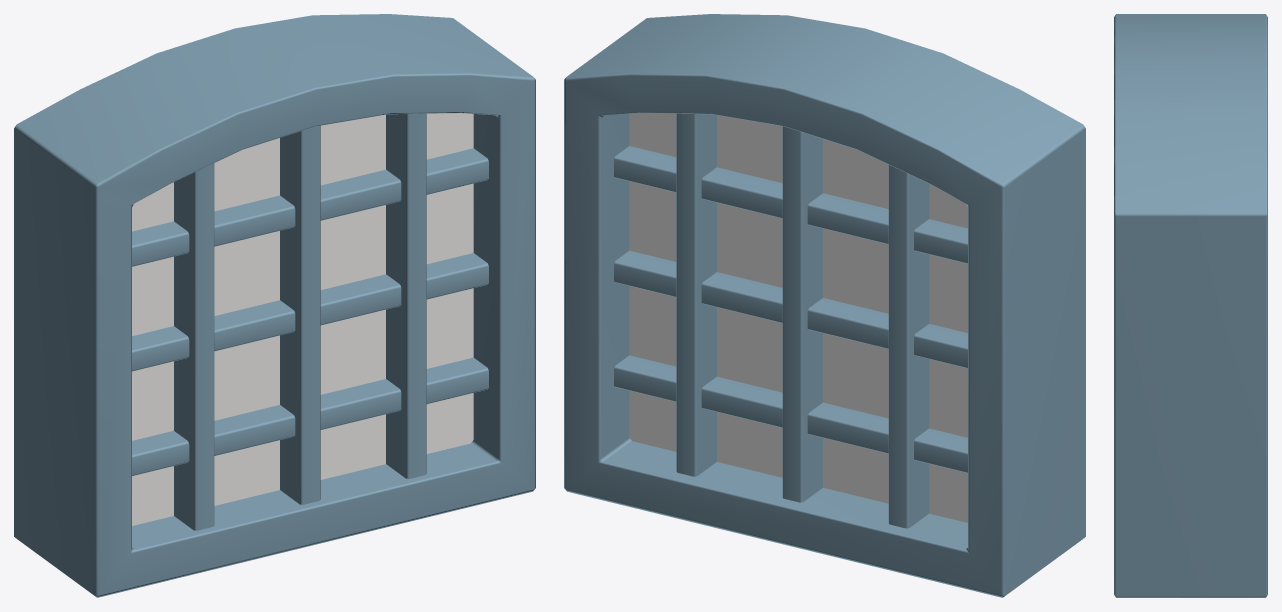
Rendered from Window_9.glb.
3 views of the same model, side by side, from view 1: azimuth 30°, elevation 25°; view 2: azimuth 150°, elevation 25°; view 3: azimuth 270°, elevation 25° (orthographic). The views are drawn at different scales.
Visible parts, largest first — view 1: Window_9; view 2: Window_9; view 3: Window_9.
Boxes of the visible parts, left/top/right/bottom form: Window_9: left=14, top=14, right=535, bottom=597; Window_9: left=564, top=14, right=1085, bottom=597; Window_9: left=1114, top=14, right=1267, bottom=597.
Size of the model in its own units: 1.36 by 1.34 by 0.4401.
2 materials, 2 textured.
